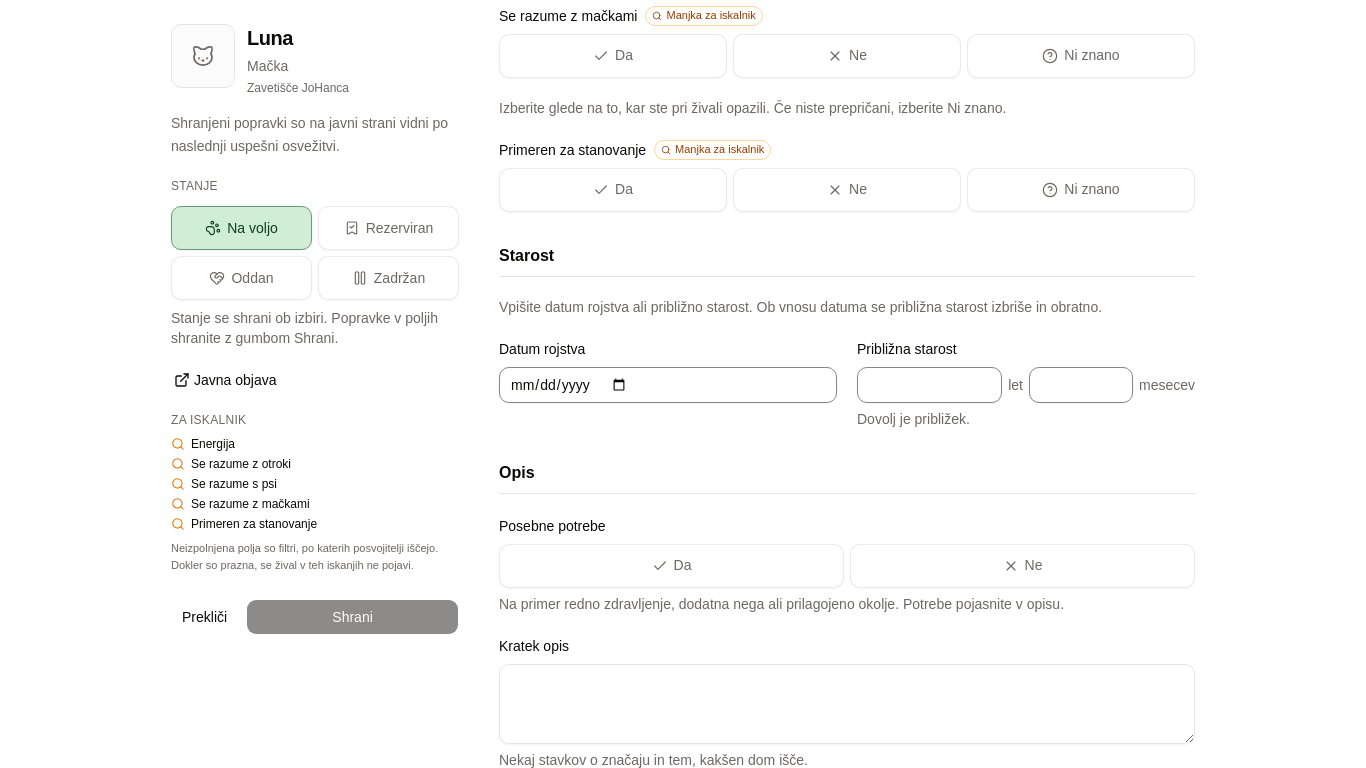
a value the animal could not have › refuses a birth date before 1900
(page scrolled)
Step 1. Type "1899-12-31" into the date field labelled "Datum rojstva" → x=668, y=384, box [499, 366, 837, 402]
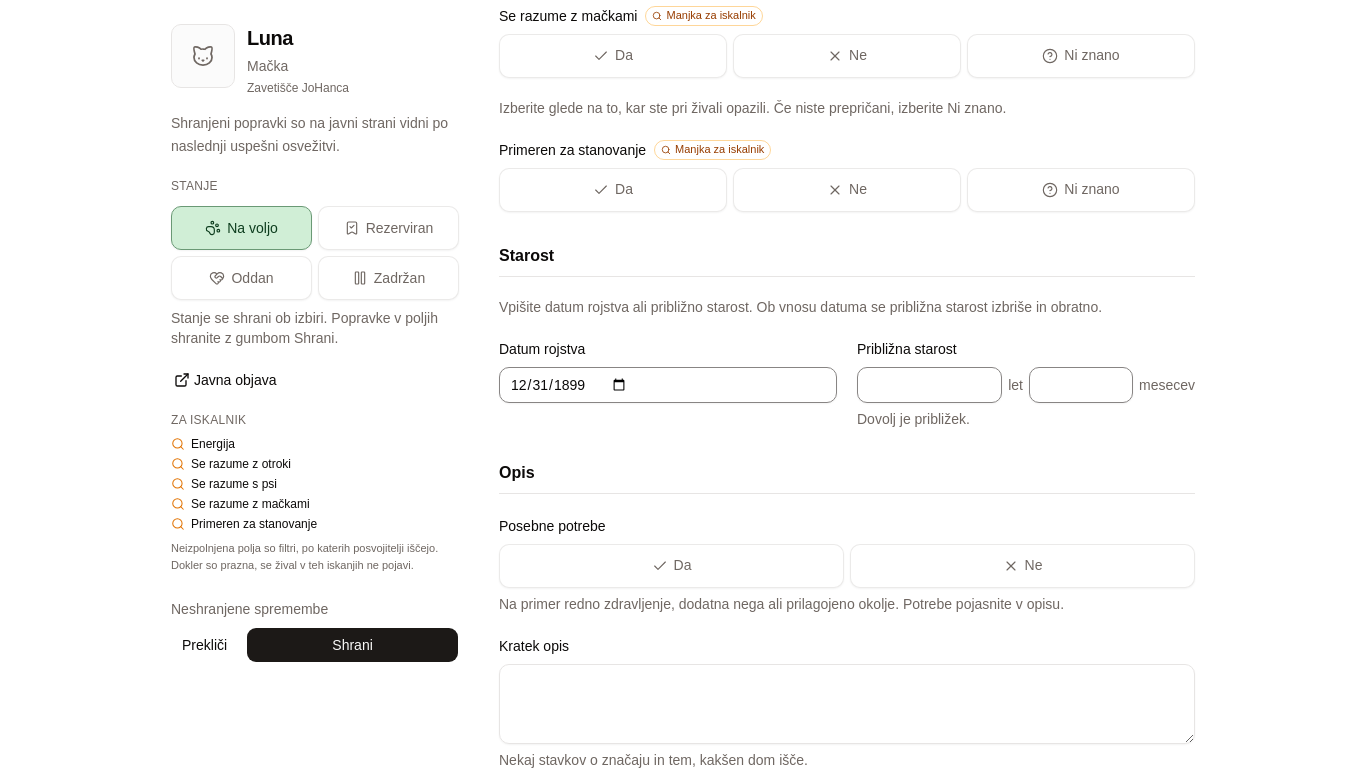
Step 2. Click the button "Shrani" → x=353, y=645, box [246, 627, 459, 663]
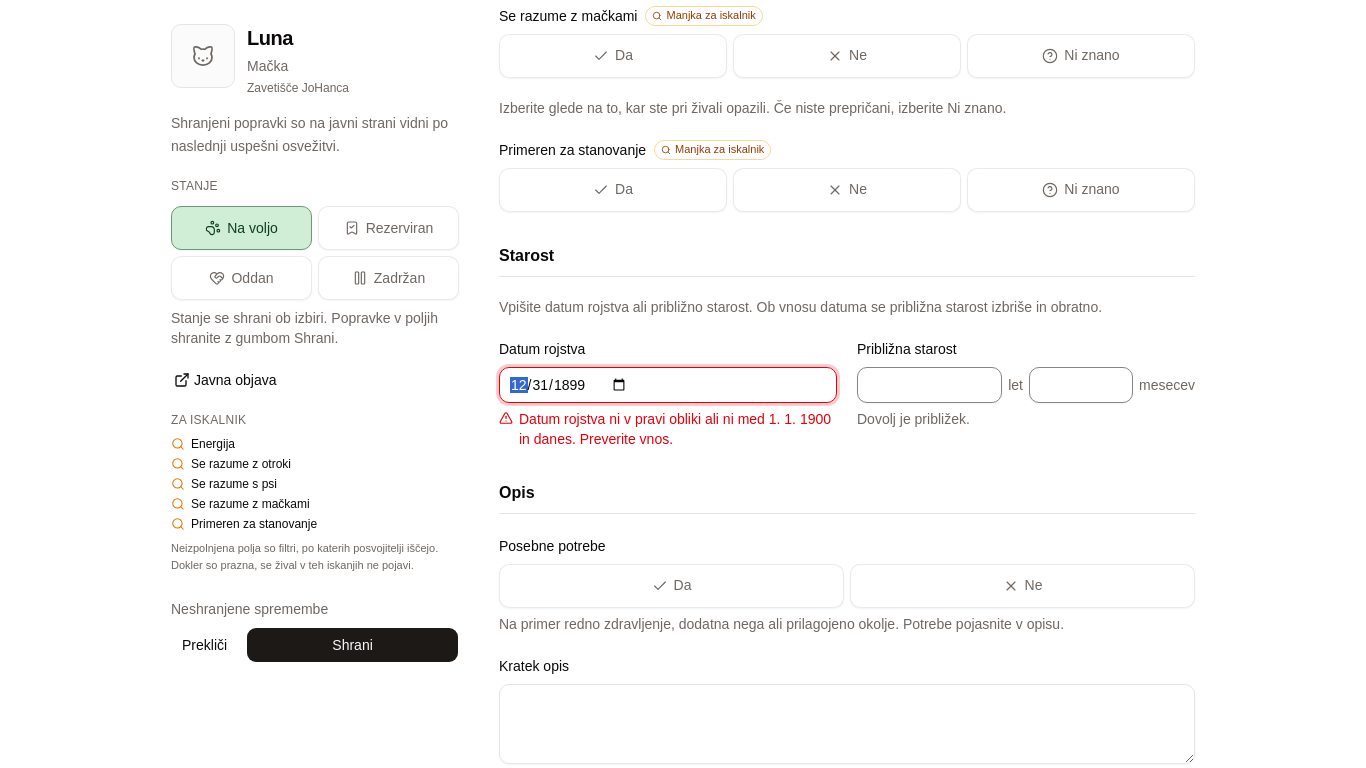
Check: the 1st message reads "Datum rojstva ni v pravi obliki ali ni med 1. 1. 1900 in danes. Preverite vnos.", box [519, 410, 831, 446]
